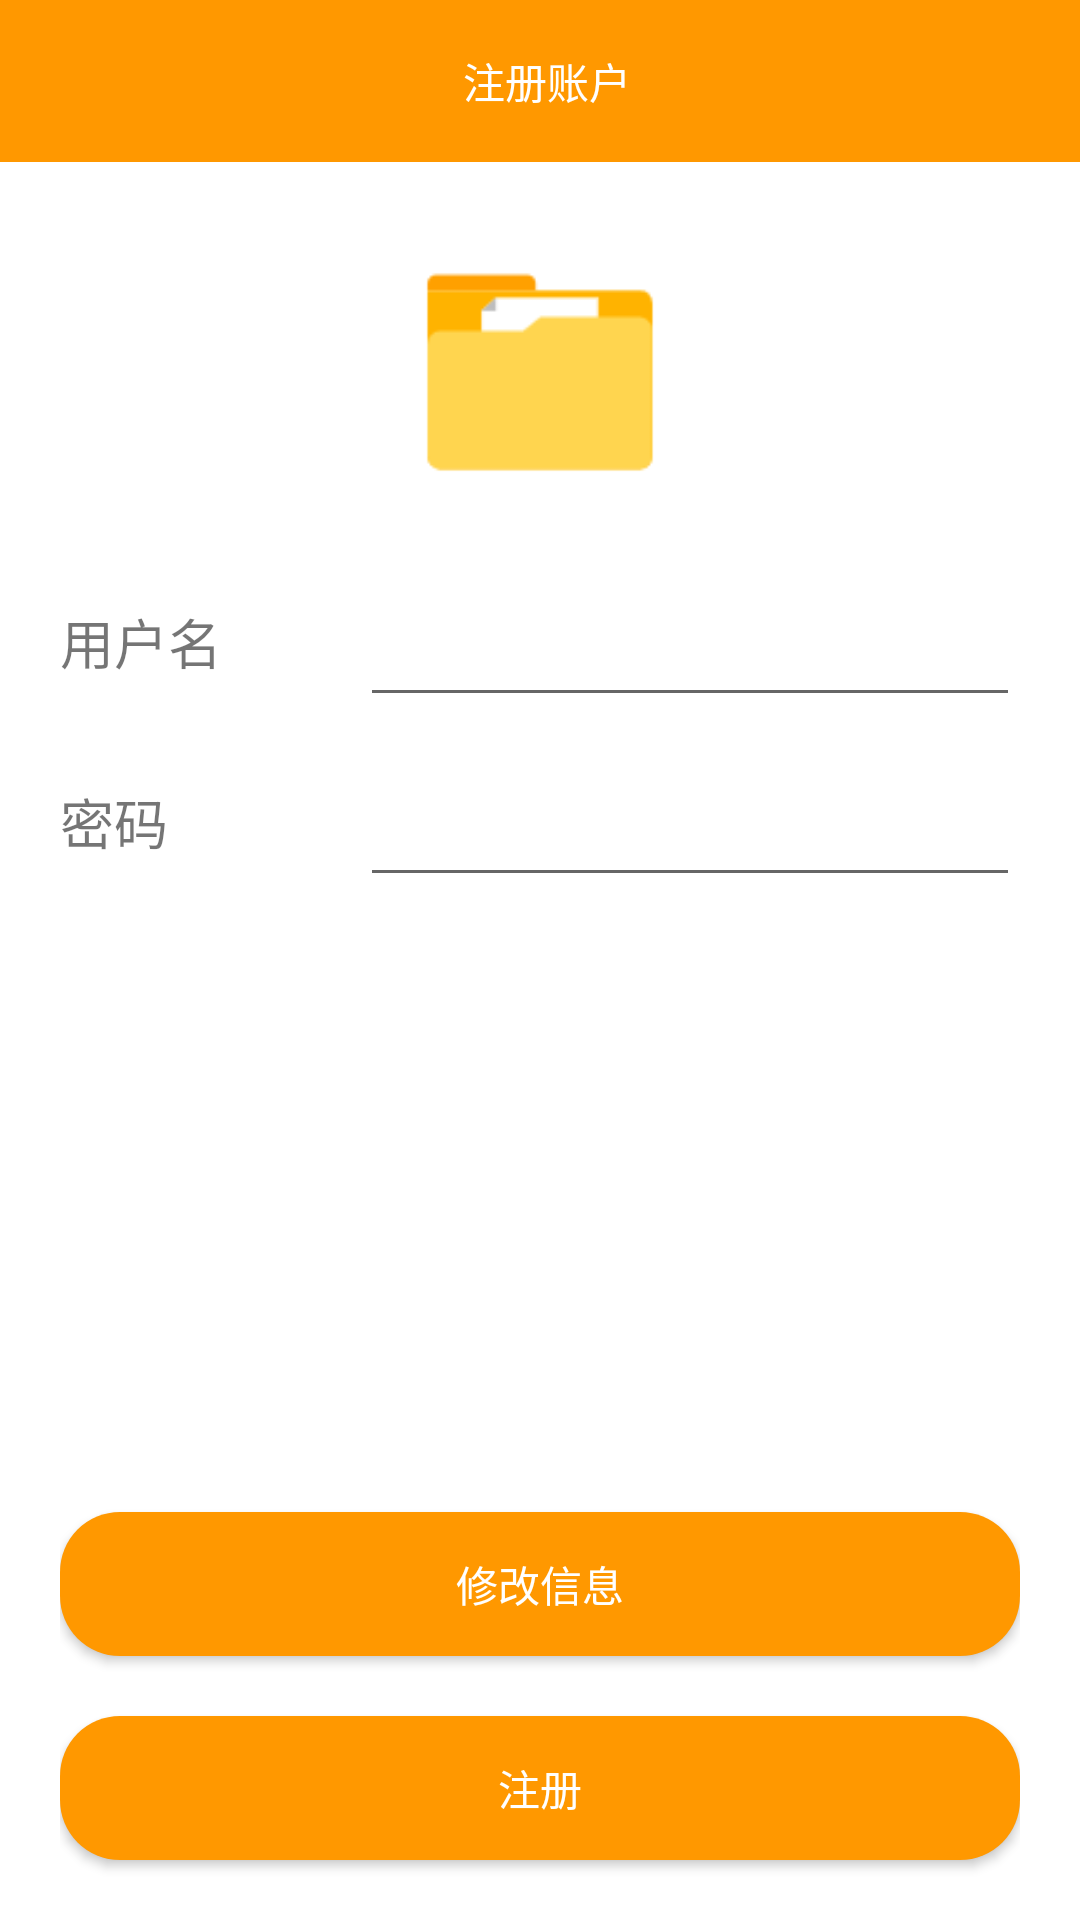

Named icons in this screenshot (1080px×1920px) and their bounding boxes, (x1, y1, x2, y2):
files: (427, 273, 653, 471)
